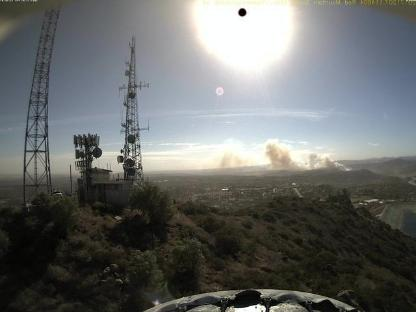smoke: (208, 136, 356, 170)
